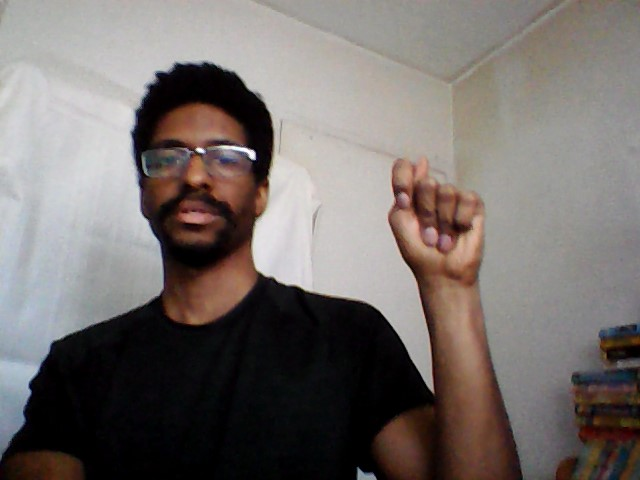t: (383, 150, 492, 287)
